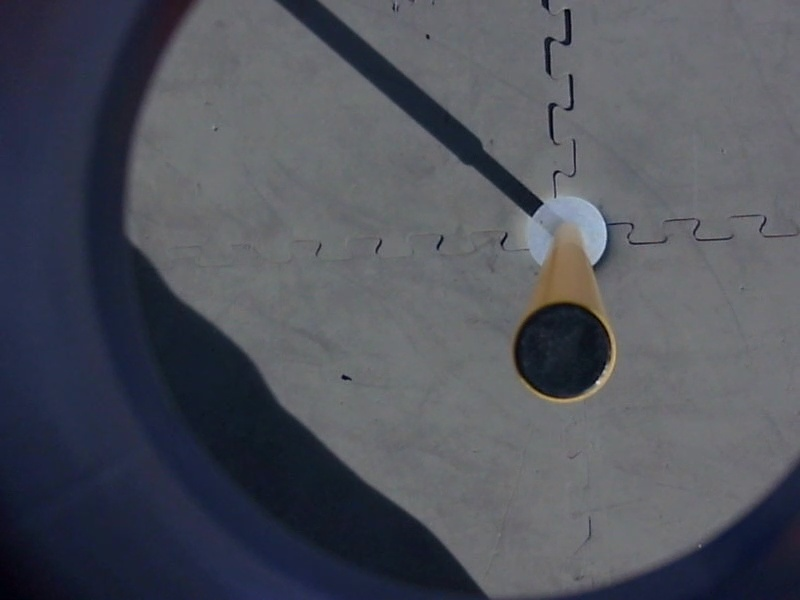tip: (505, 291, 621, 412)
